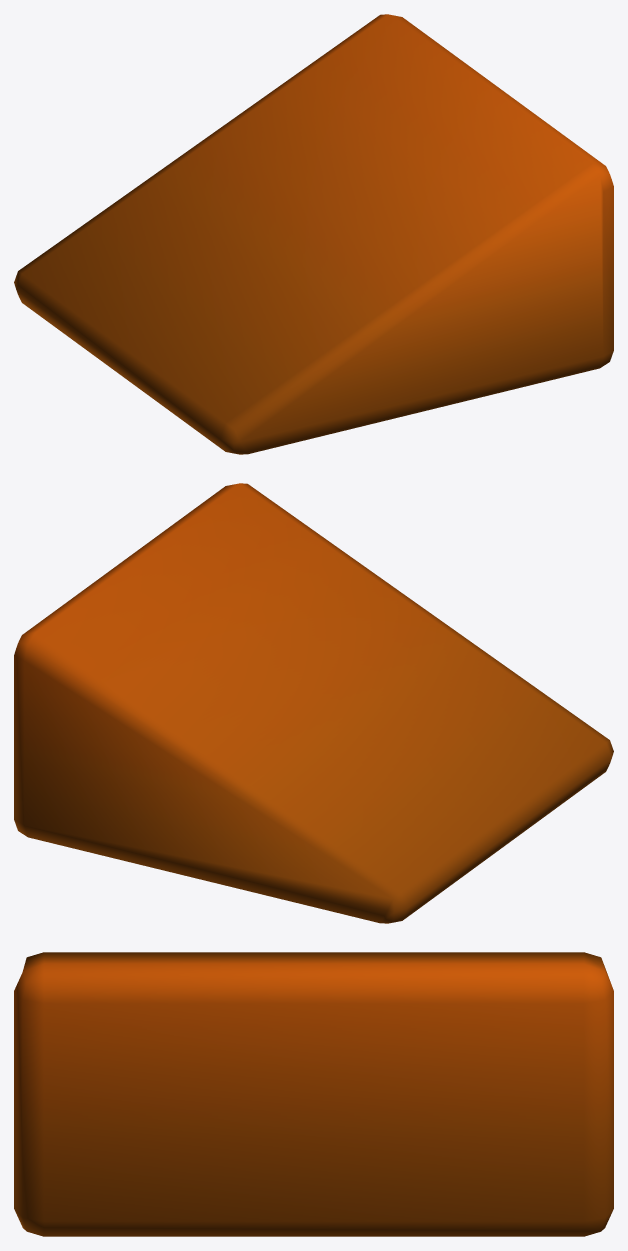
Rendered from 3D_Tile_Ground_Slope_04B.fbx.
3 views of the same model, one above another, from view 1: azimuth 30°, elevation 25°; view 2: azimuth 150°, elevation 25°; view 3: azimuth 270°, elevation 25° (orthographic). The views are drawn at different scales.
Parts seen in each view (by area): view 1: 3D_Tile_Ground_Slope_04B; view 2: 3D_Tile_Ground_Slope_04B; view 3: 3D_Tile_Ground_Slope_04B.
Boxes of the visible parts, x1,y1,x2,y2 form: 3D_Tile_Ground_Slope_04B: (14,14,613,454); 3D_Tile_Ground_Slope_04B: (14,483,613,923); 3D_Tile_Ground_Slope_04B: (14,952,613,1236).
Bounding box in the file's own units: 200 × 100 × 200.
